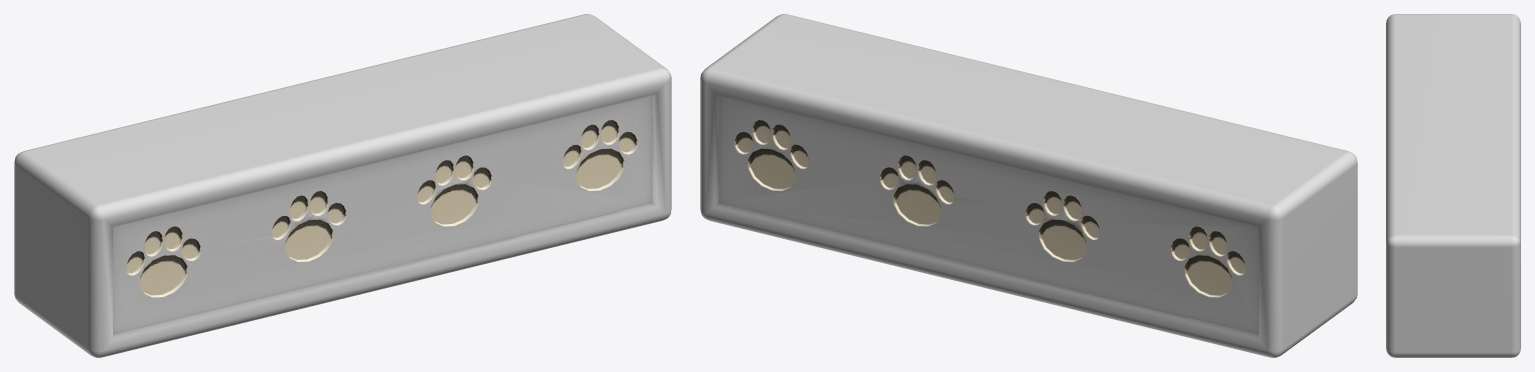
The model's file is kup4.glb.
3 renders of one model, left to right at view 1: azimuth 30°, elevation 25°; view 2: azimuth 150°, elevation 25°; view 3: azimuth 270°, elevation 25°, orthographic. The views are drawn at different scales.
Visible parts, largest first — view 1: blok; view 2: blok; view 3: blok.
Boxes of the visible parts, <box> form: blok: <box>14,14,671,357</box>; blok: <box>700,14,1357,357</box>; blok: <box>1386,14,1520,357</box>.
Size of the model in its own units: 4 by 1 by 1.
2 materials, 2 textured.
